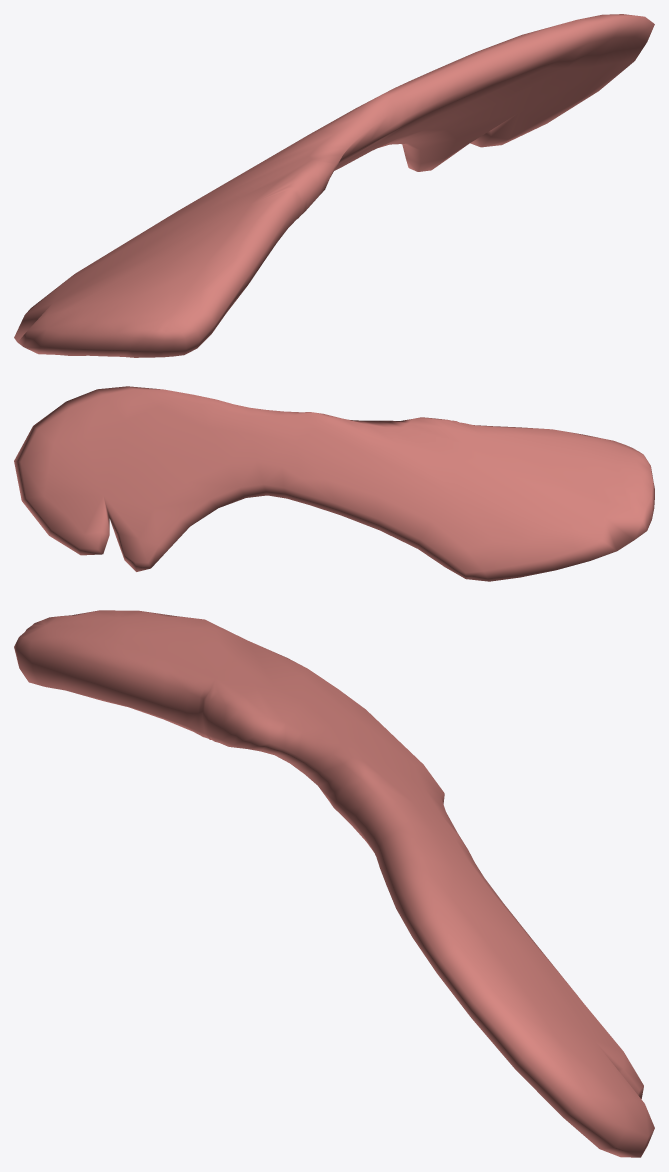
3 renders of one model, top to bottom at view 1: azimuth 30°, elevation 25°; view 2: azimuth 150°, elevation 25°; view 3: azimuth 270°, elevation 25°, orthographic. The views are drawn at different scales.
Parts seen in each view (by area): view 1: ZA_9e844126d9a94f4c; view 2: ZA_9e844126d9a94f4c; view 3: ZA_9e844126d9a94f4c.
Boxes of the visible parts, <box> form: ZA_9e844126d9a94f4c: <box>14,14,654,357</box>; ZA_9e844126d9a94f4c: <box>14,386,654,581</box>; ZA_9e844126d9a94f4c: <box>14,610,654,1157</box>.
Bounding box in the file's own units: 0.0111 × 0.00262 × 0.00606.
